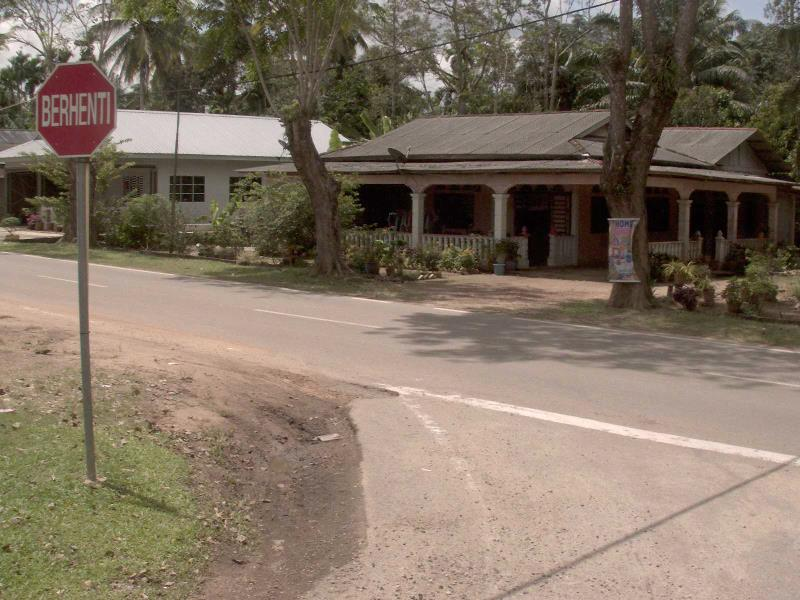ads_sign: (600, 211, 646, 291)
traffic_sign: (30, 55, 123, 163)
